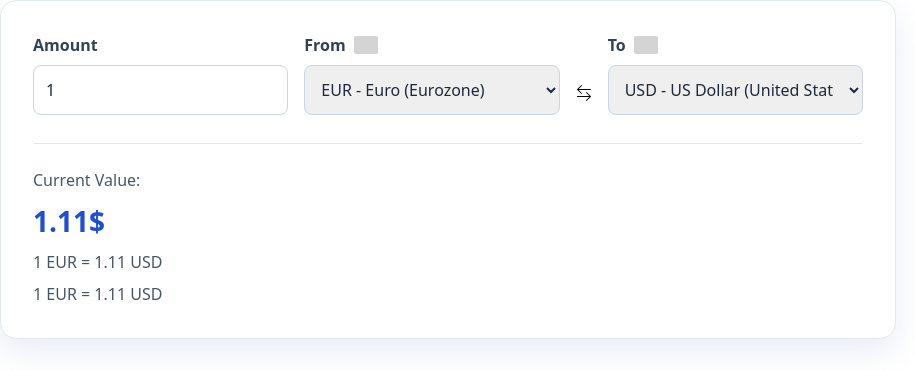
currency conversion with the API › From is EUR › converts EUR to USD and swaps the currencies
This screenshot has width=915, height=370.
Expected: the dropdown labelled "From" shows "EUR - Euro (Eurozone)", [304,65,560,115]
Expected: the dropdown labelled "To" shows "USD - US Dollar (United States)", [608,65,863,115]
// Swap the selected currencies and check the reverse conversion.
Click the button named "swap currencies" at x=584, y=91, box [576,79,592,103]
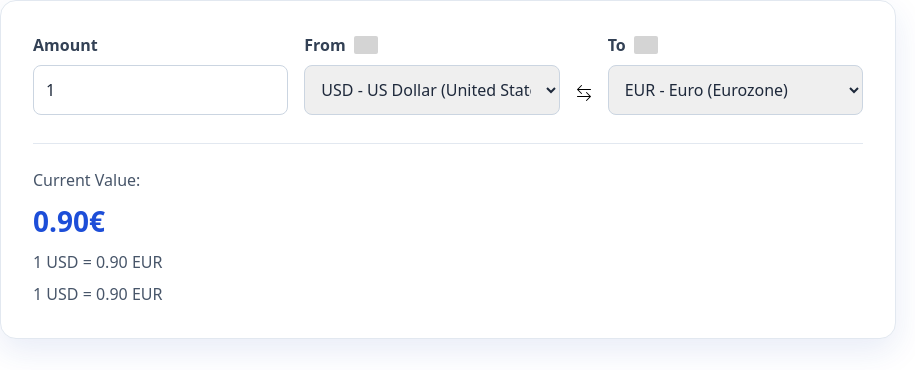
Expected: the 1st text "1 USD = 0.90 EUR" is shown, [33,251,162,273]
Expected: the dropdown labelled "From" shows "USD - US Dollar (United States)", [304,65,560,115]
Expected: the dropdown labelled "To" shows "EUR - Euro (Eurozone)", [608,65,863,115]
